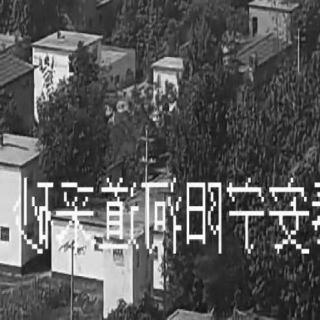other: (226, 24, 284, 77), (5, 42, 33, 86)
